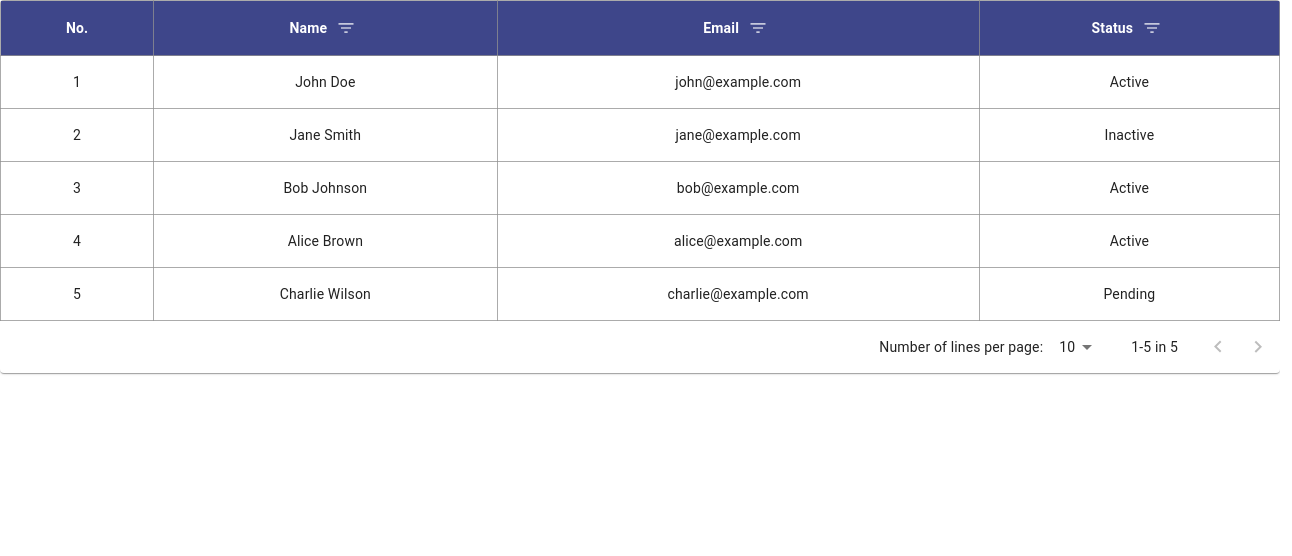
Test: DataTable Component - Comprehensive Tests › Filtering › shows filter options in popover
The image size is (1292, 556).
Click the button without text next to "Name" at (346, 28), box [331,13,361,43]
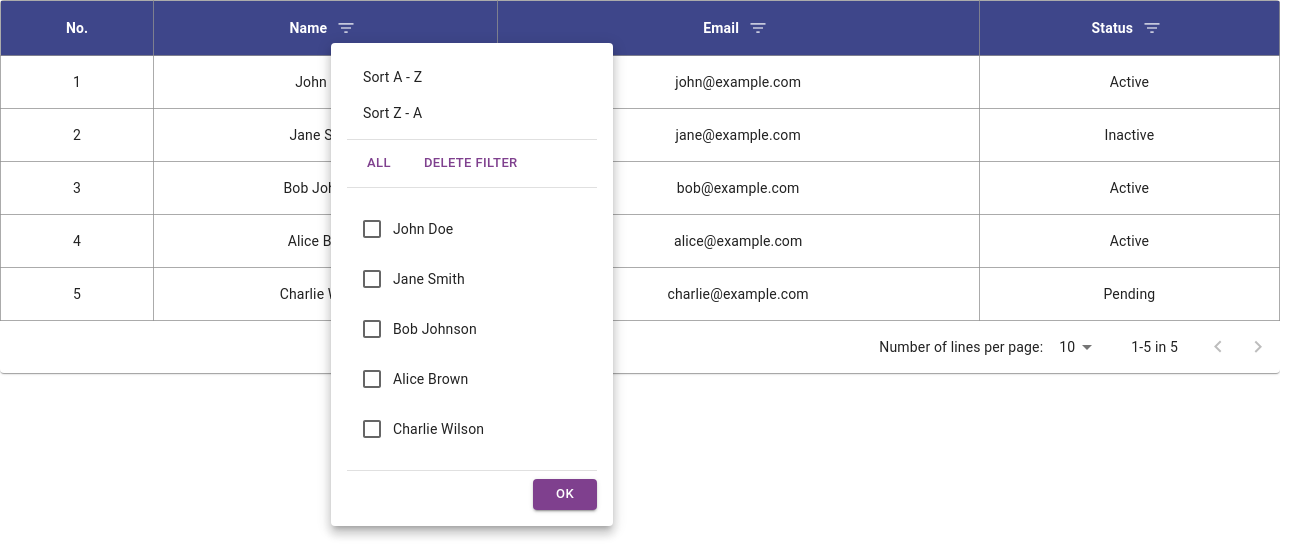
Check: the button "All" is shown, box [347,148,411,179]
Check: the button "Delete filter" is shown, box [419,148,523,179]
